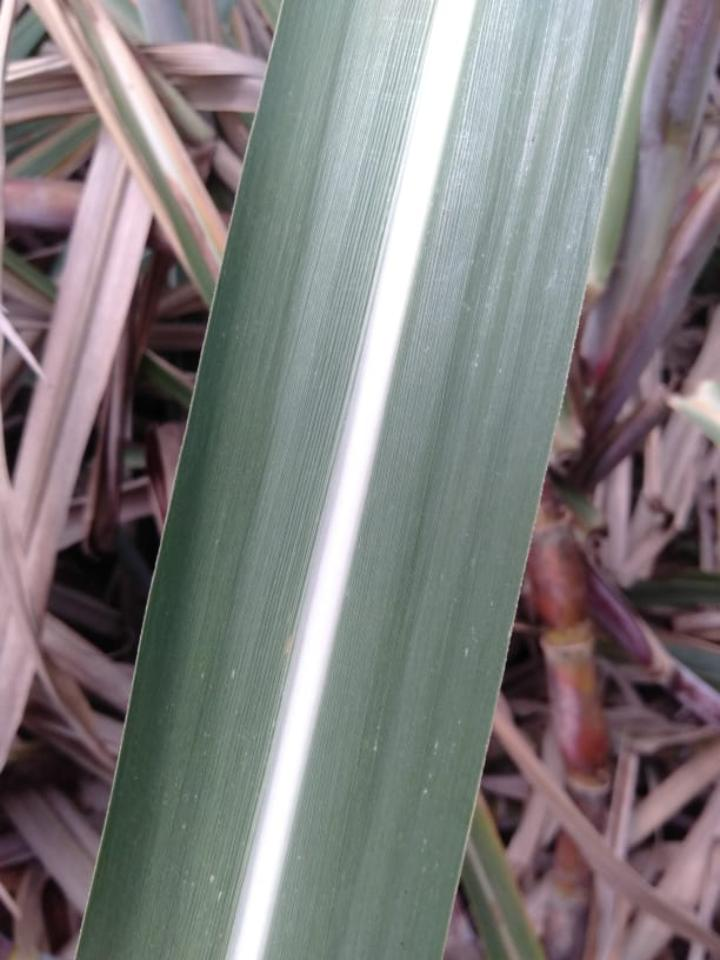Healthy: (76, 0, 638, 959)
RedRot: (490, 904, 502, 923)
Yellow: (475, 793, 541, 959)
